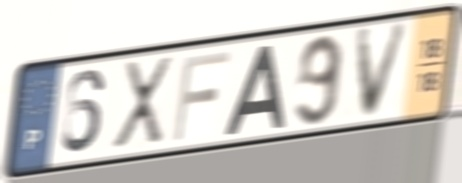6: (61, 67, 109, 158)
9: (293, 31, 346, 129)
A: (222, 41, 288, 138)
F: (169, 47, 234, 144)
V: (353, 18, 415, 124)
X: (109, 53, 176, 152)
